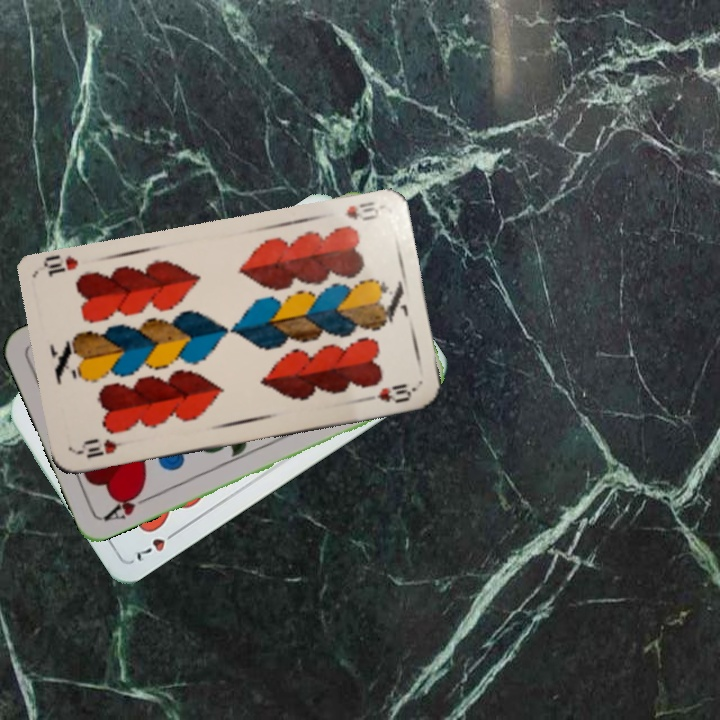H10: (74, 435, 133, 461), (340, 197, 382, 224)
H7: (132, 525, 182, 565)
HA: (100, 485, 156, 524)
